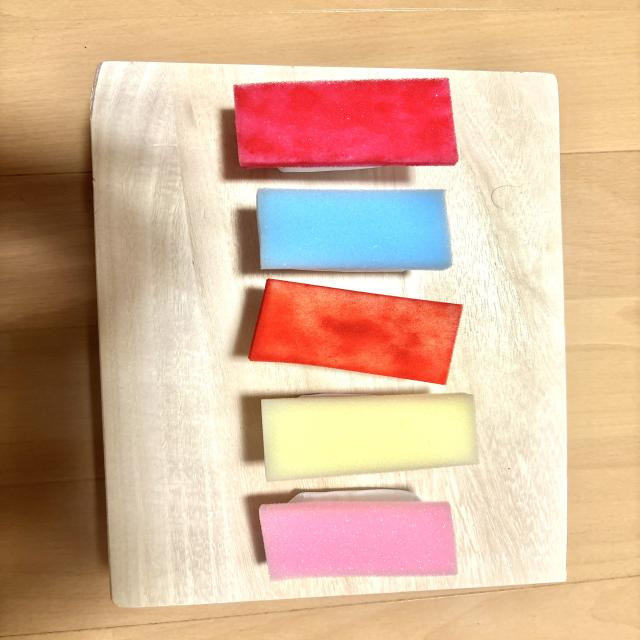ika: (257, 188, 452, 271)
maguro: (234, 78, 458, 172)
salmon: (249, 279, 462, 384)
tai: (259, 490, 457, 580)
tamago: (262, 393, 478, 481)
